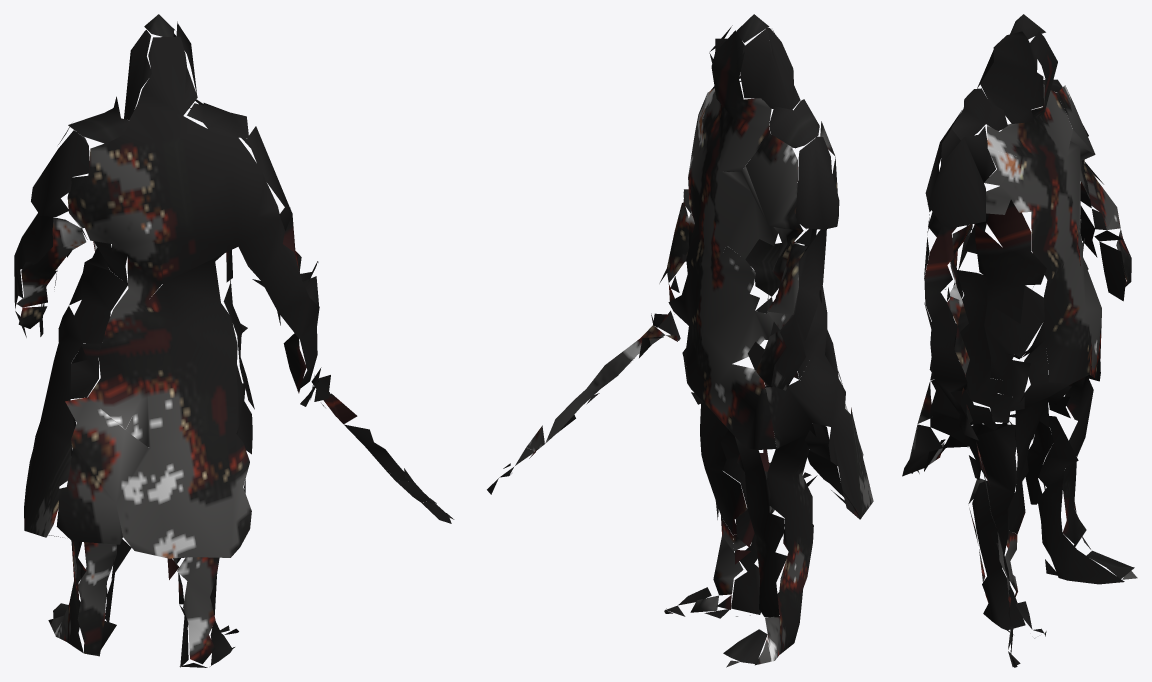
3 renders of one model, left to right at view 1: azimuth 30°, elevation 25°; view 2: azimuth 150°, elevation 25°; view 3: azimuth 270°, elevation 25°, orthographic. The views are drawn at different scales.
Parts seen in each view (by area): view 1: body.002; view 2: body.002; view 3: body.002.
Boxes of the visible parts, left/top/right/bottom form: body.002: left=14, top=14, right=454, bottom=667; body.002: left=487, top=14, right=873, bottom=667; body.002: left=902, top=14, right=1137, bottom=667.
Size of the model in its own units: 1.34 by 2.01 by 0.7269.
1 material, 1 textured.
